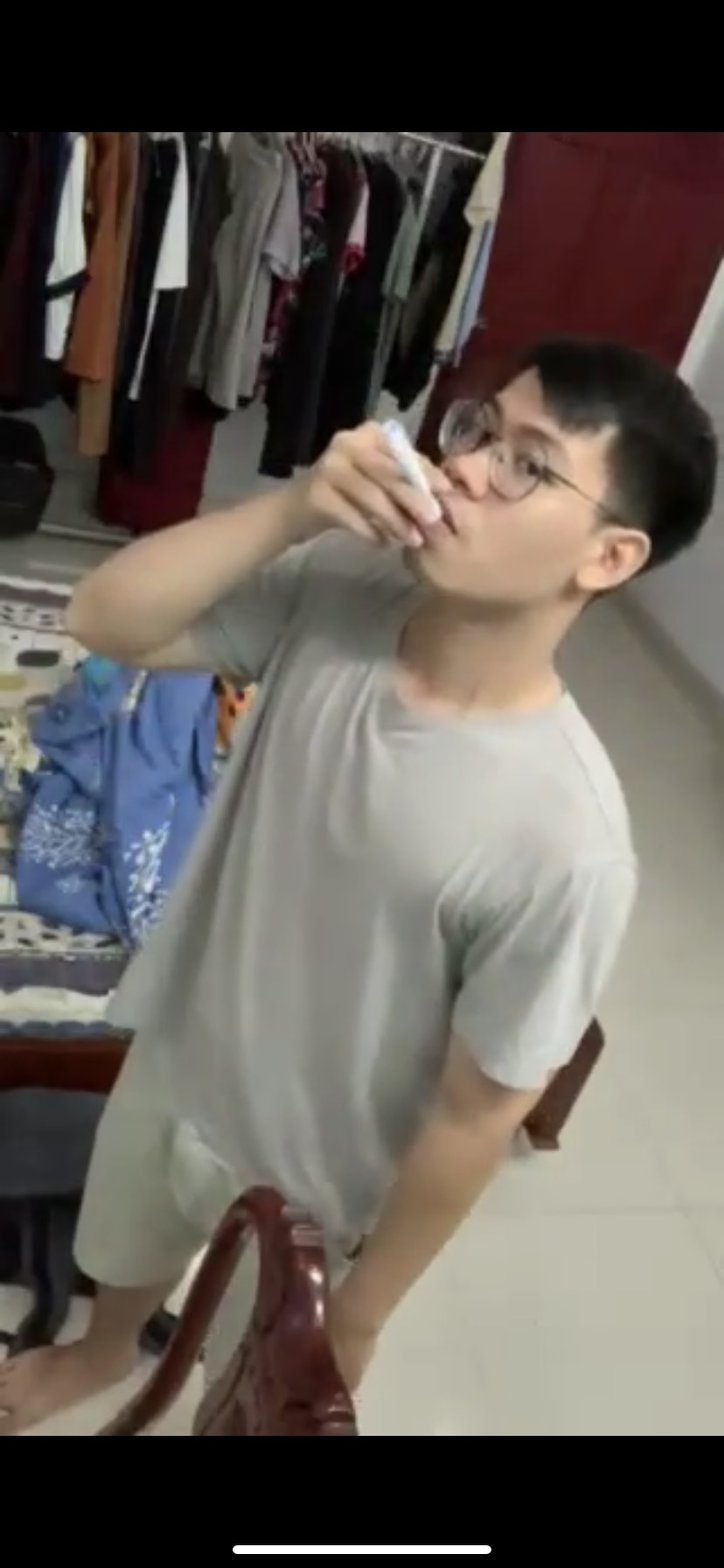cigarette: (382, 406, 446, 508)
person: (63, 305, 723, 1298)
